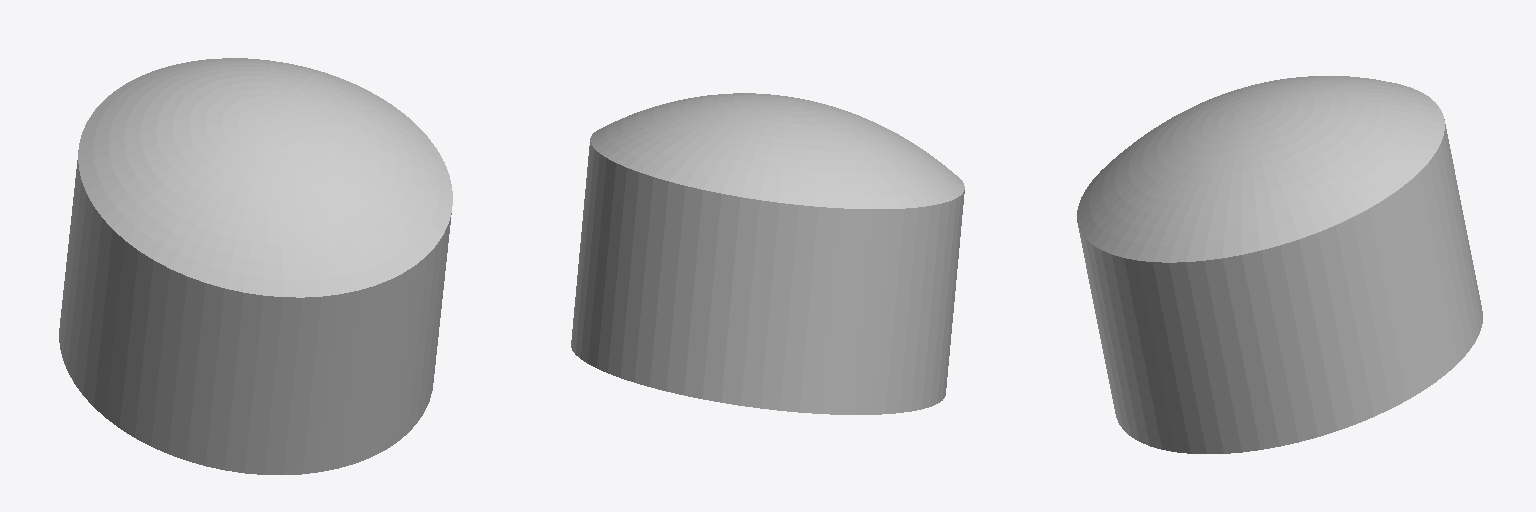
File: original-5.obj
The picture shows the model from 3 angles: view 1: azimuth 30°, elevation 25°; view 2: azimuth 150°, elevation 25°; view 3: azimuth 270°, elevation 25°; orthographic projection.
Parts seen in each view (by area): view 1: instance_1/Group_12/ID31#ID31; view 2: instance_1/Group_12/ID31#ID31; view 3: instance_1/Group_12/ID31#ID31.
Part boxes in pixels (left/top/right/bottom): instance_1/Group_12/ID31#ID31: left=59, top=58, right=452, bottom=474; instance_1/Group_12/ID31#ID31: left=571, top=93, right=964, bottom=414; instance_1/Group_12/ID31#ID31: left=1077, top=76, right=1482, bottom=453.
Bounding box in the file's own units: 0.0403 × 0.0358 × 0.0434.